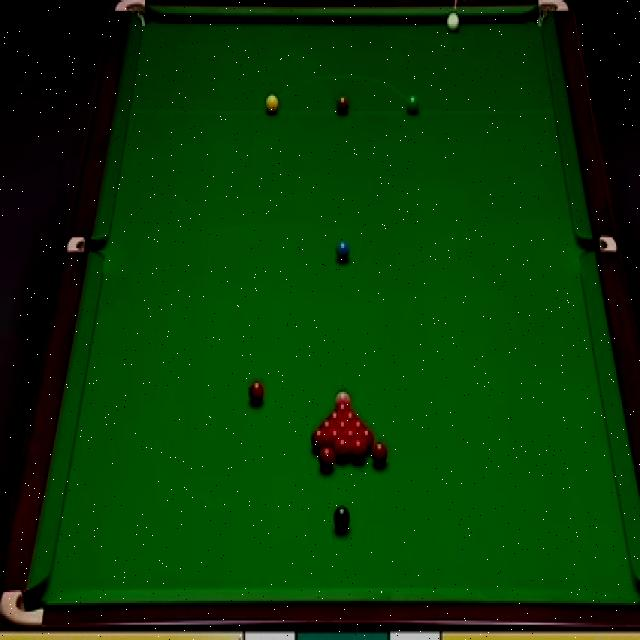black-ball: (334, 504, 351, 532)
blue-ball: (335, 239, 350, 259)
brown-ball: (335, 96, 350, 114)
green-ball: (405, 92, 421, 117)
pink-ball: (335, 391, 352, 409)
red-ball: (311, 426, 329, 453), (351, 436, 367, 465), (371, 441, 388, 468), (318, 444, 335, 468), (341, 428, 360, 448), (250, 380, 264, 407), (335, 436, 351, 459), (358, 428, 375, 449), (335, 417, 351, 434), (350, 417, 367, 433), (319, 417, 336, 432), (342, 407, 357, 424), (329, 430, 341, 450), (328, 409, 343, 423)
white-ball: (446, 11, 460, 32)
yellow-ball: (264, 93, 280, 115)
